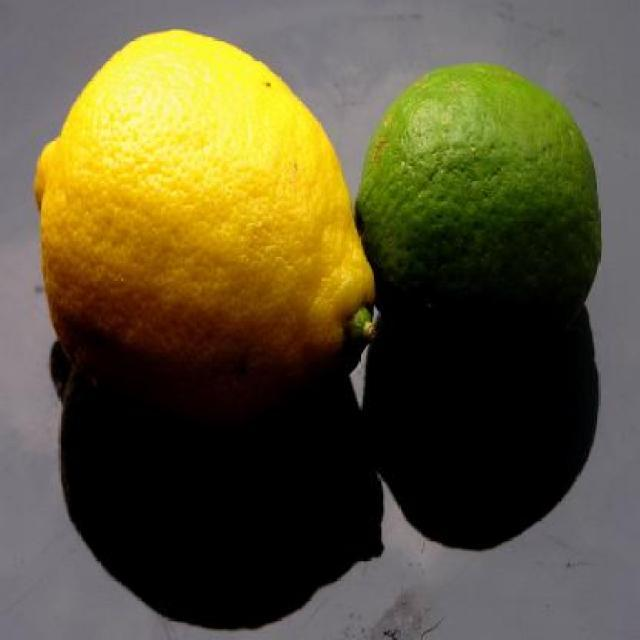Lemon: (32, 23, 374, 440), (355, 63, 603, 352)
